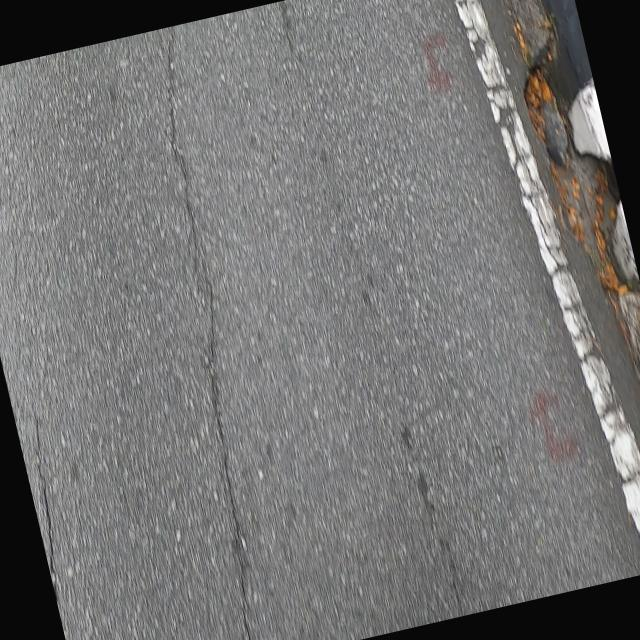Retak-Memanjang: (164, 44, 256, 640), (31, 409, 61, 600)
